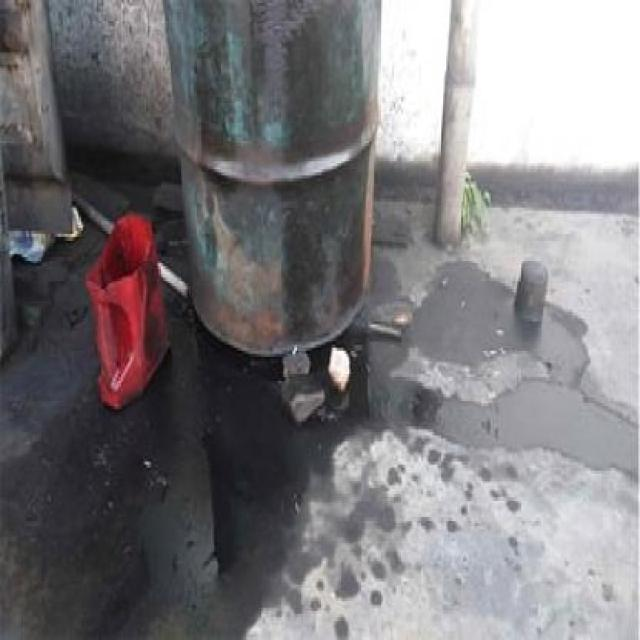spillage: (0, 202, 633, 640)
